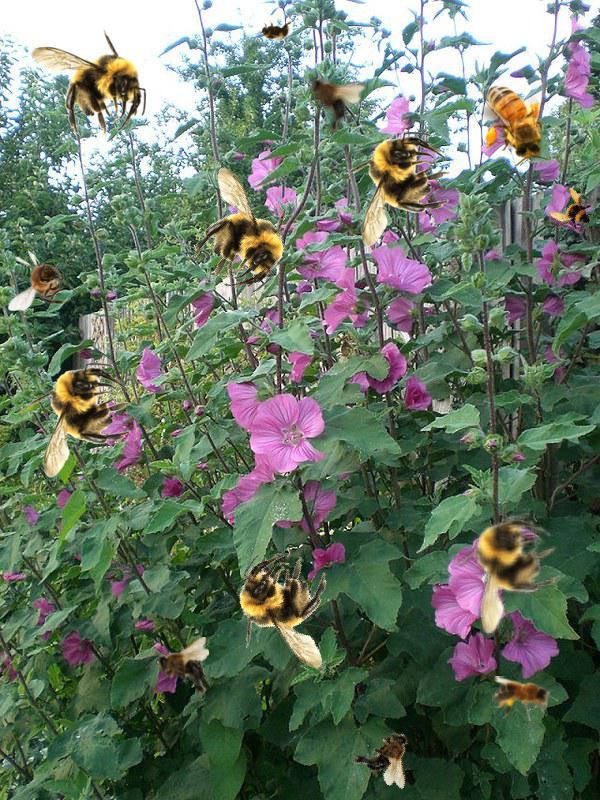Bee: (161, 150, 318, 309), (210, 535, 365, 688), (444, 507, 571, 640), (25, 363, 132, 478), (31, 28, 146, 135), (343, 132, 450, 247), (291, 59, 370, 141), (482, 73, 550, 166), (346, 716, 427, 792), (8, 250, 78, 311), (544, 183, 600, 245), (156, 637, 209, 699), (492, 676, 558, 721), (255, 20, 295, 42)
